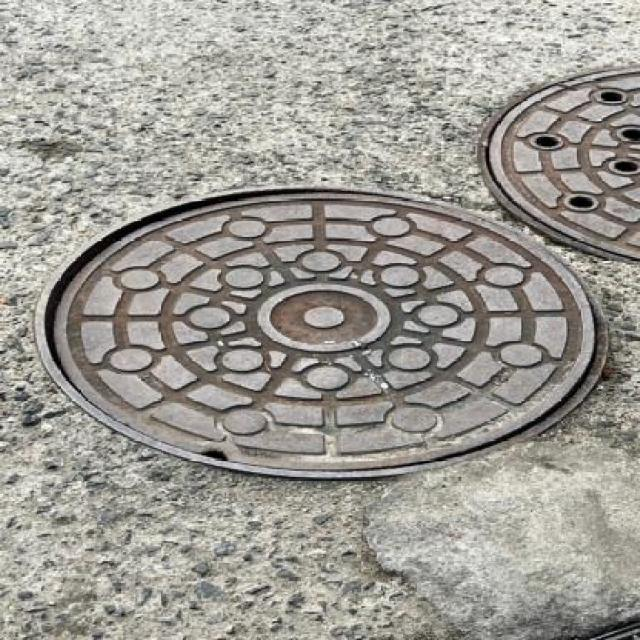Sewer Cover: (12, 180, 634, 462)
